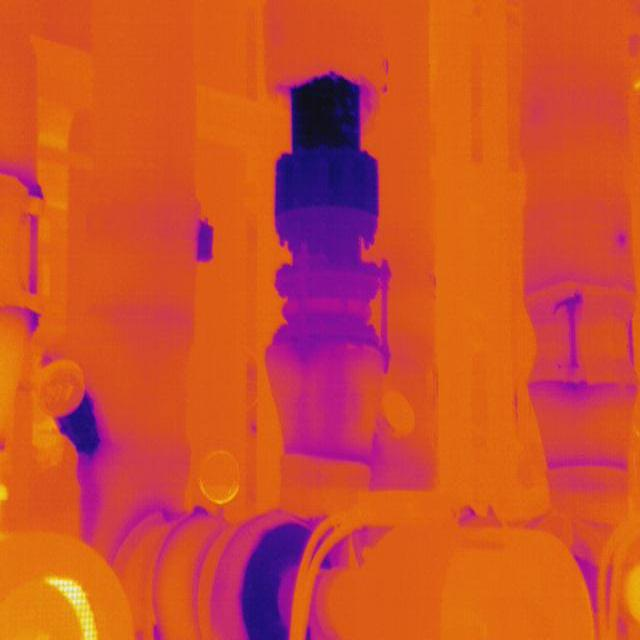leakage: (378, 56, 398, 98), (612, 227, 632, 249)
